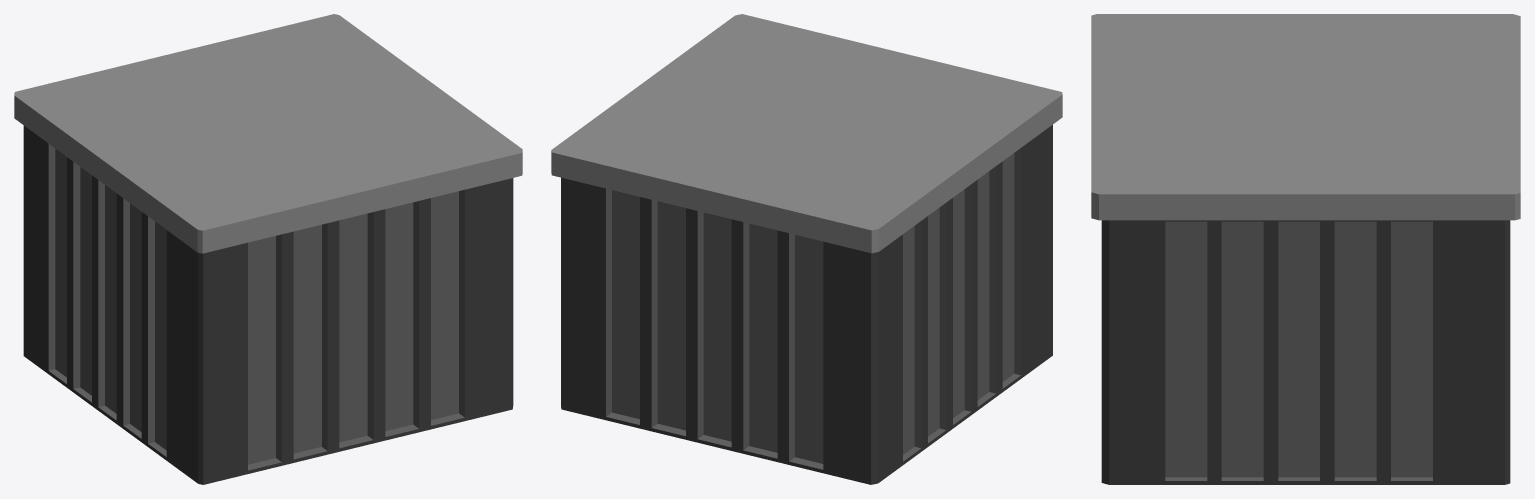
File: building_F.FBX
3 views of the same model, side by side, from view 1: azimuth 30°, elevation 25°; view 2: azimuth 150°, elevation 25°; view 3: azimuth 270°, elevation 25° (orthographic). The views are drawn at different scales.
Parts seen in each view (by area): view 1: factory_building_F; view 2: factory_building_F; view 3: factory_building_F.
Part boxes in pixels (<box>): factory_building_F: <box>14,14,522,484</box>; factory_building_F: <box>551,14,1062,484</box>; factory_building_F: <box>1091,14,1520,484</box>.
Bounding box in the file's own units: 2243 × 1700 × 2254.
